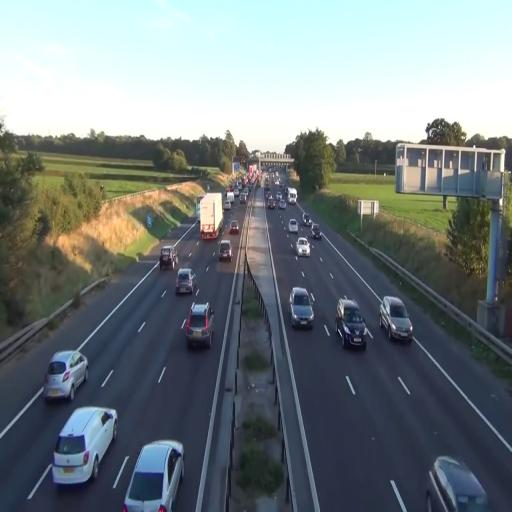vehicle: (52, 405, 118, 486), (122, 439, 184, 512), (426, 455, 489, 511), (44, 351, 88, 401), (336, 298, 368, 350), (379, 296, 414, 343), (182, 302, 214, 349), (198, 192, 224, 242), (289, 287, 314, 330), (176, 268, 196, 296), (160, 244, 176, 269), (296, 236, 311, 256), (218, 240, 232, 261), (288, 218, 300, 236), (310, 224, 320, 242)
